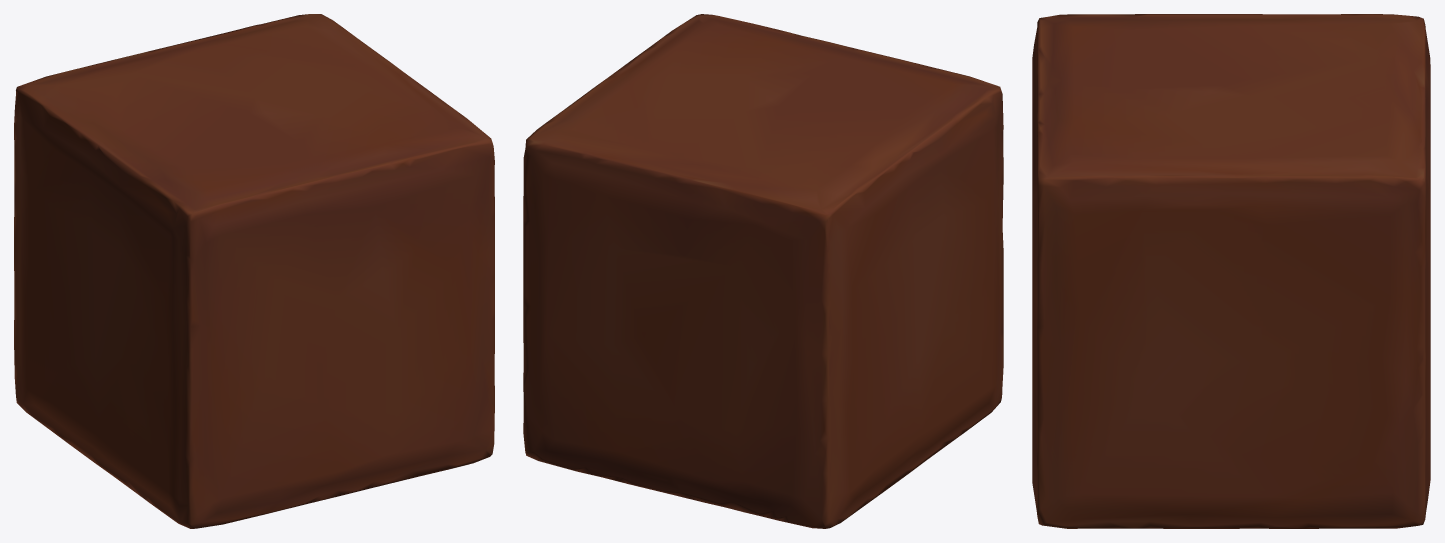
Rendered from gen3d-chocolate-lod0.glb.
3 views of the same model, side by side, from view 1: azimuth 30°, elevation 25°; view 2: azimuth 150°, elevation 25°; view 3: azimuth 270°, elevation 25° (orthographic). The views are drawn at different scales.
Parts seen in each view (by area): view 1: part_0; view 2: part_0; view 3: part_0.
Boxes of the visible parts, box(x1,y1,x2,y2) form: part_0: box(14, 14, 494, 528); part_0: box(523, 14, 1003, 528); part_0: box(1032, 14, 1430, 528).
Bounding box in the file's own units: 1 × 1 × 1.
